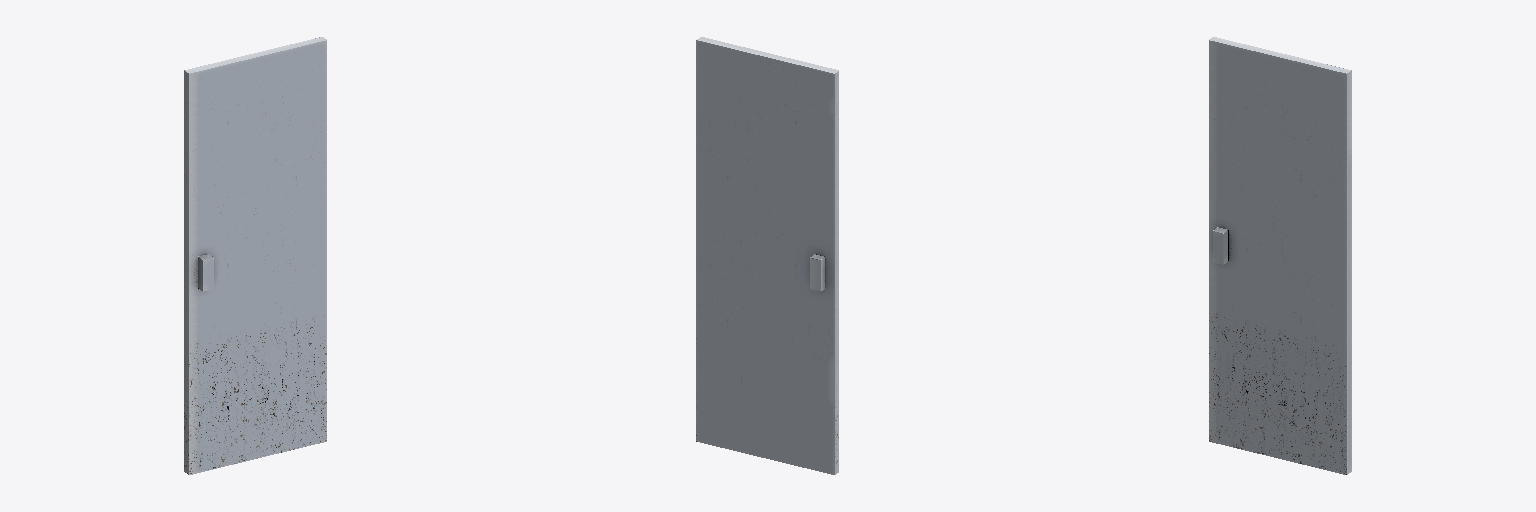
3 views of the same model, side by side, from view 1: azimuth 30°, elevation 25°; view 2: azimuth 150°, elevation 25°; view 3: azimuth 330°, elevation 25° (orthographic).
Visible parts, largest first — view 1: showerDoor; view 2: showerDoor; view 3: showerDoor.
Part boxes in pixels (bbox=[...]): showerDoor: bbox=[184, 37, 326, 474]; showerDoor: bbox=[696, 37, 838, 474]; showerDoor: bbox=[1209, 37, 1351, 474].
Size of the model in its own units: 60.75 by 169 by 11.1.
Materials: 1 (1 with a texture image).